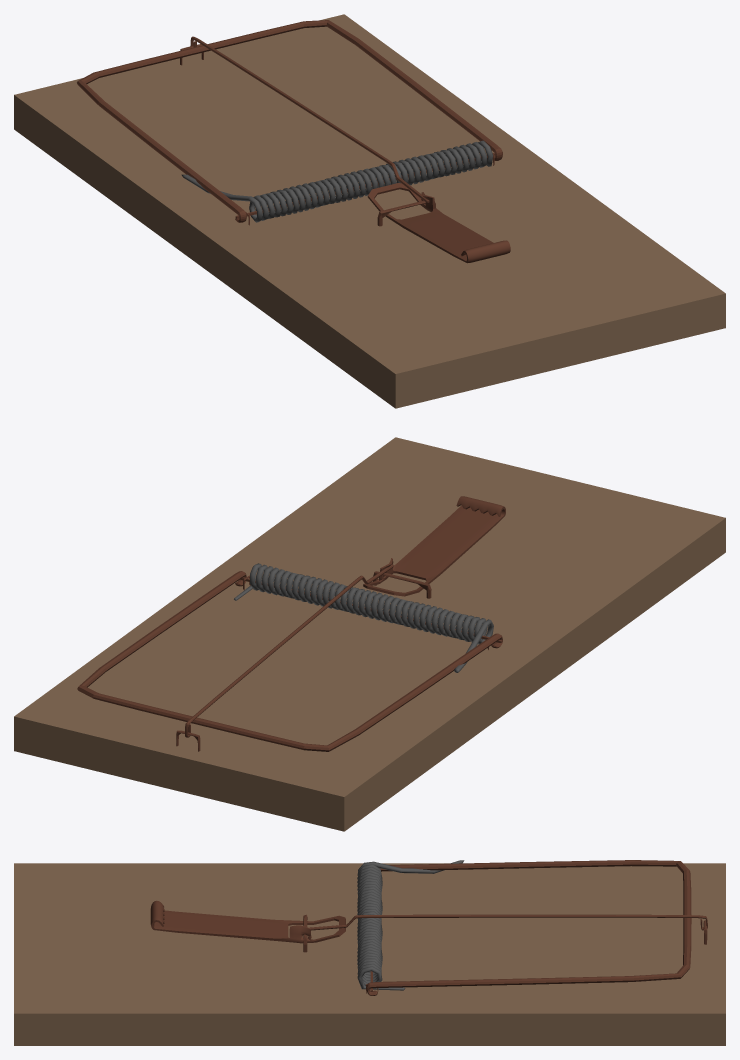
Rendered from Mousetrap.fbx.
3 views of the same model, one above another, from view 1: azimuth 30°, elevation 25°; view 2: azimuth 150°, elevation 25°; view 3: azimuth 270°, elevation 25° (orthographic). The views are drawn at different scales.
Visible parts, largest first — view 1: Platform, Spring, Hammer, Trip, HoldingBar; view 2: Platform, Spring, Hammer, Trip, HoldingBar; view 3: Platform, Hammer, Trip, Spring, HoldingBar.
Part boxes in pixels (x1=…): Platform: x1=14, y1=14, x2=725, y2=408; Spring: x1=181, y1=140, x2=493, y2=222; Hammer: x1=77, y1=20, x2=502, y2=222; Trip: x1=367, y1=183, x2=510, y2=263; HoldingBar: x1=190, y1=36, x2=429, y2=202; Platform: x1=14, y1=437, x2=725, y2=831; Spring: x1=234, y1=563, x2=493, y2=672; Hammer: x1=77, y1=571, x2=502, y2=751; Trip: x1=363, y1=496, x2=505, y2=596; HoldingBar: x1=185, y1=564, x2=393, y2=737; Platform: x1=14, y1=863, x2=725, y2=1045; Hammer: x1=366, y1=860, x2=691, y2=995; Trip: x1=150, y1=900, x2=345, y2=943; Spring: x1=357, y1=860, x2=464, y2=990; HoldingBar: x1=309, y1=914, x2=707, y2=930.
Bounding box in the file's own units: 200 × 38.79 × 400.
